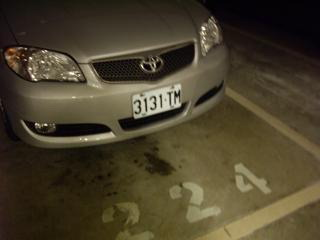plate: (130, 89, 183, 117)
